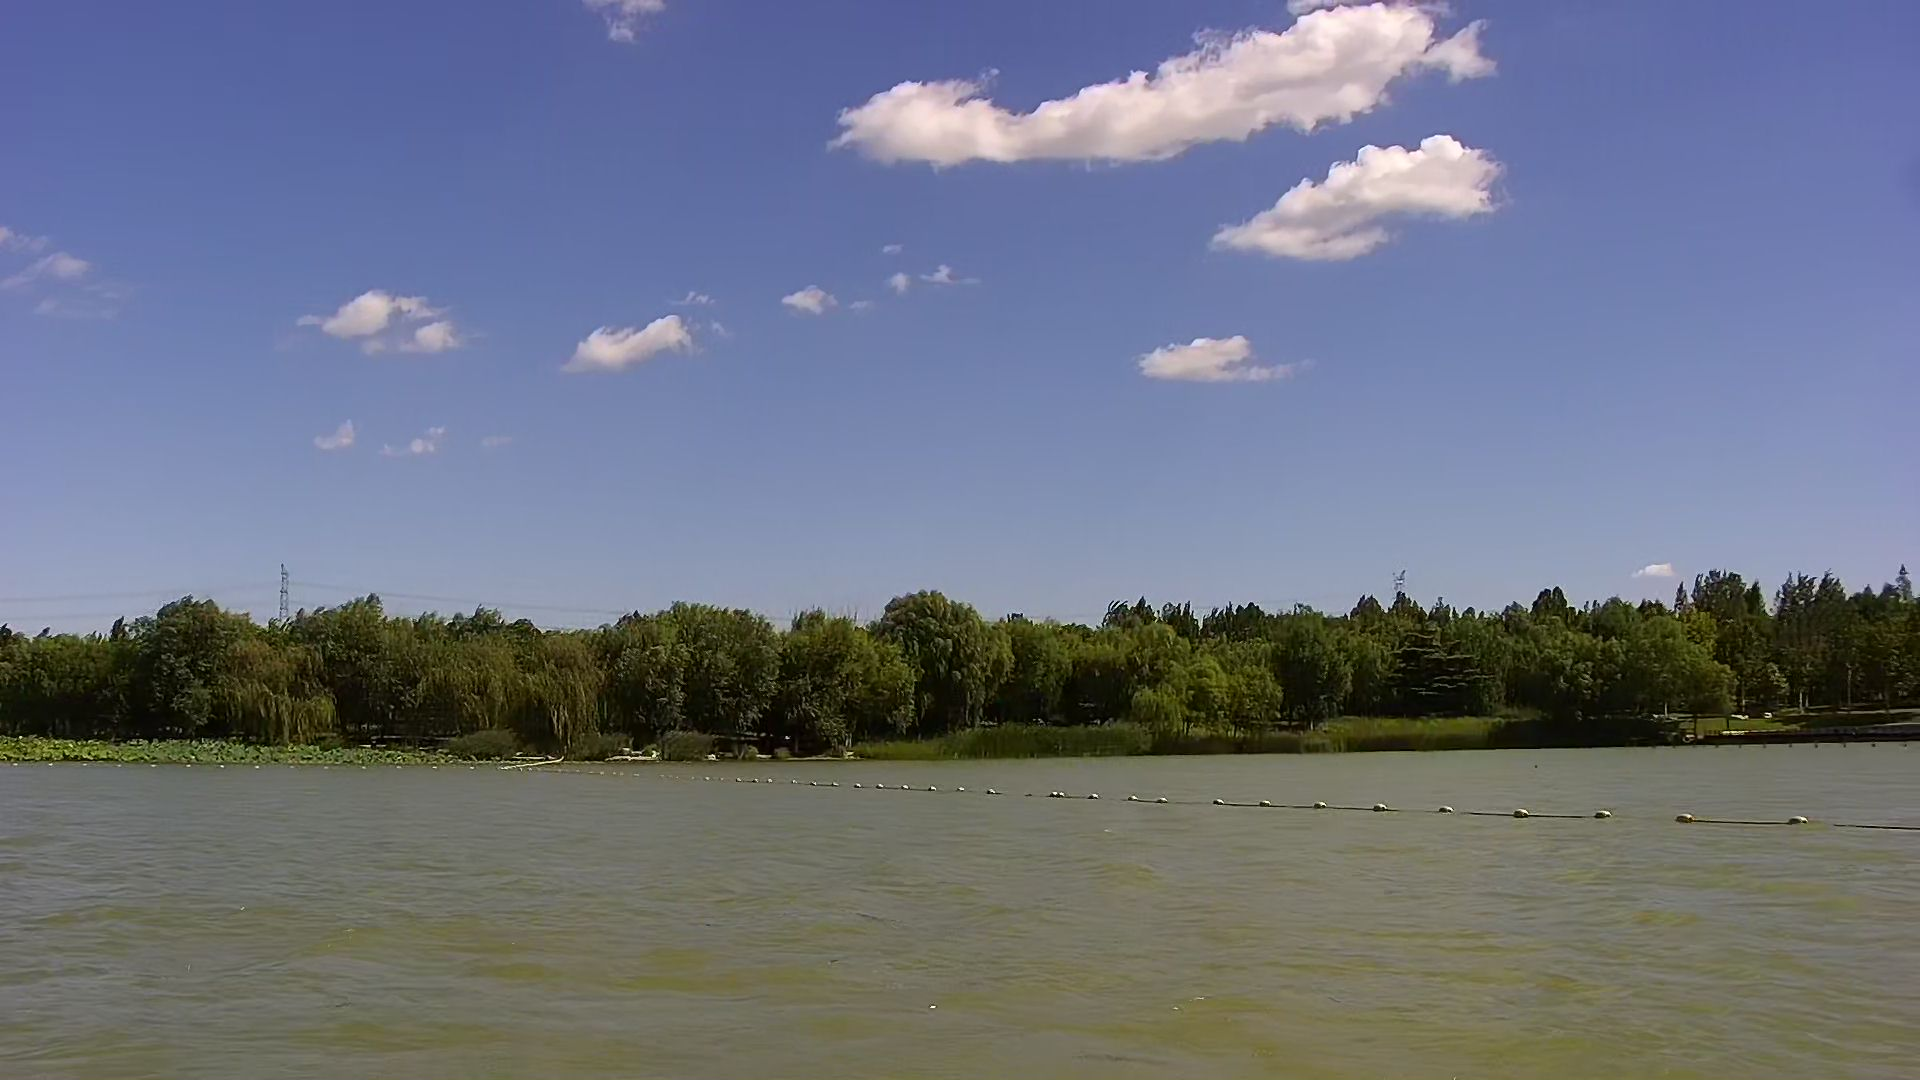ball: (1501, 794, 1543, 836), (1783, 800, 1829, 836), (1361, 794, 1408, 828), (1585, 800, 1631, 832), (1427, 793, 1462, 833), (1302, 790, 1338, 818), (1671, 800, 1698, 835)
